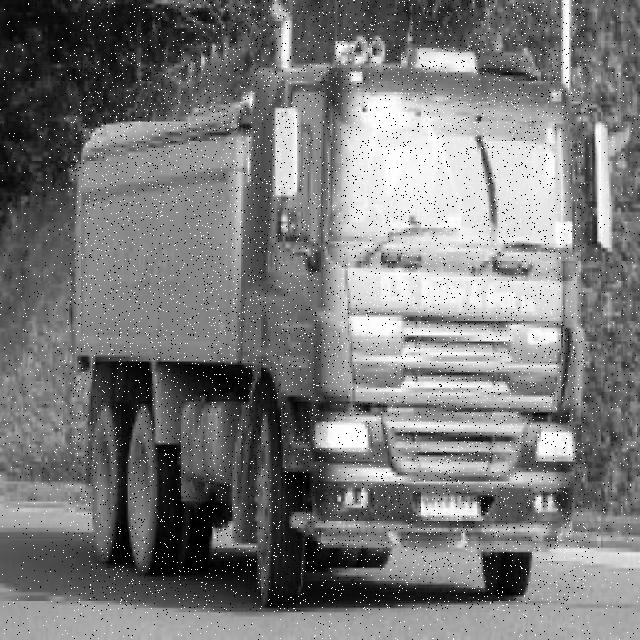Box Truck: (70, 0, 586, 611)
